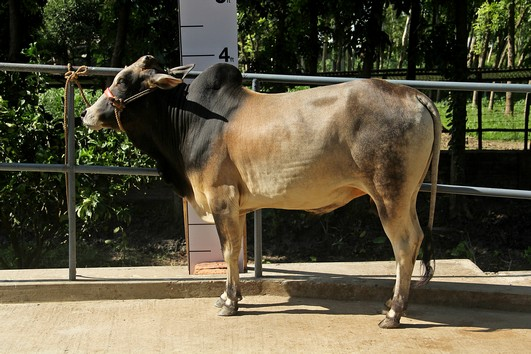cow: (77, 48, 449, 333)
